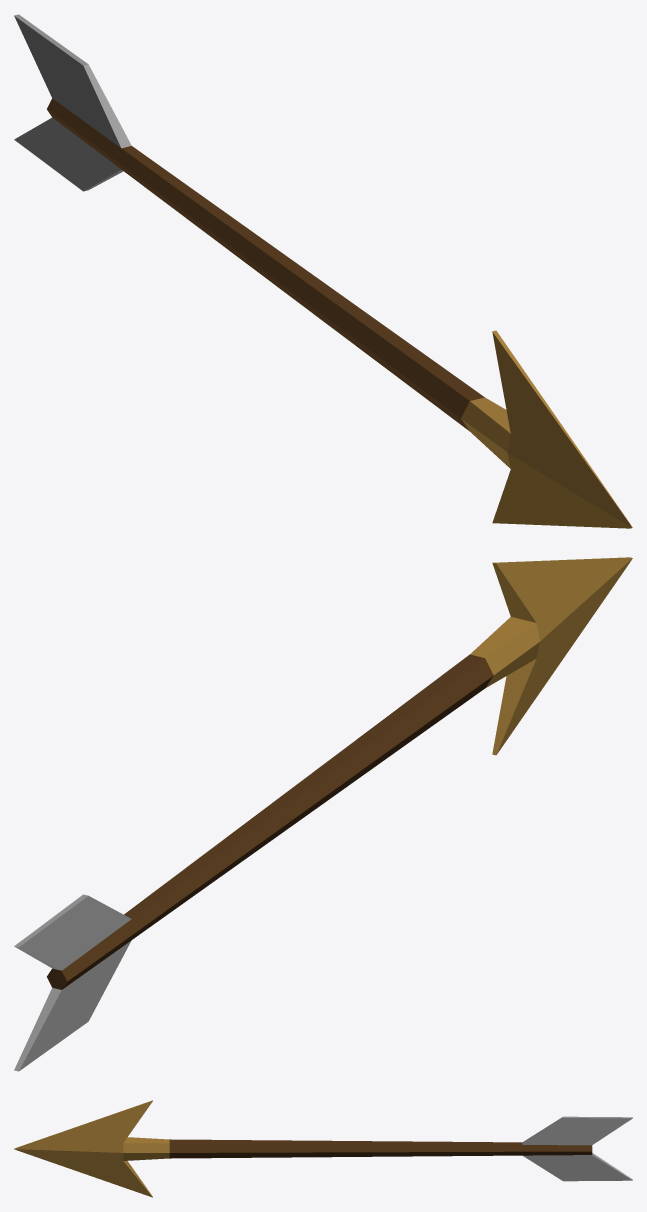
File: Arrow.fbx
3 views of the same model, one above another, from view 1: azimuth 30°, elevation 25°; view 2: azimuth 150°, elevation 25°; view 3: azimuth 270°, elevation 25° (orthographic). The views are drawn at different scales.
Parts seen in each view (by area): view 1: Arrow; view 2: Arrow; view 3: Arrow.
Boxes of the visible parts, <box> form: Arrow: <box>14,14,632,528</box>; Arrow: <box>14,557,632,1071</box>; Arrow: <box>14,1100,632,1197</box>.
Bounding box in the file's own units: 0.3563 × 2 × 11.65.
